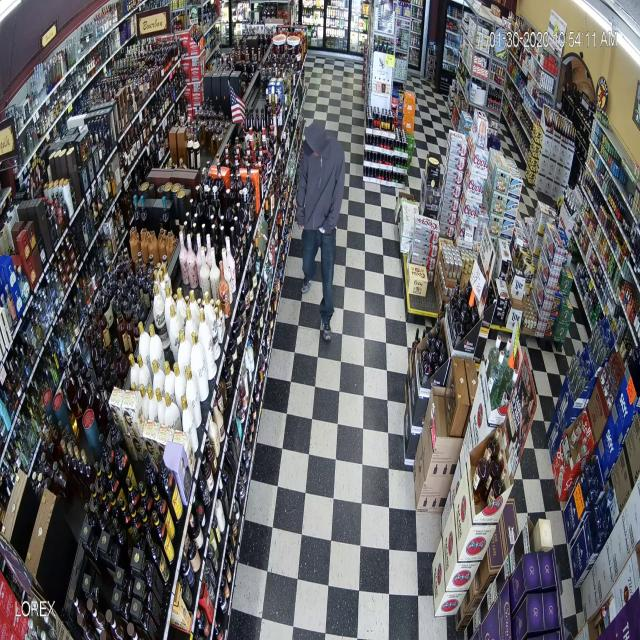normal: (284, 119, 354, 348)
